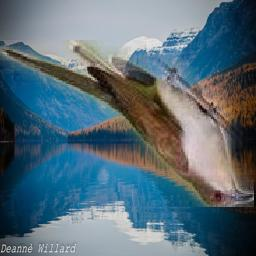Cuckoo: (0, 41, 254, 208)
